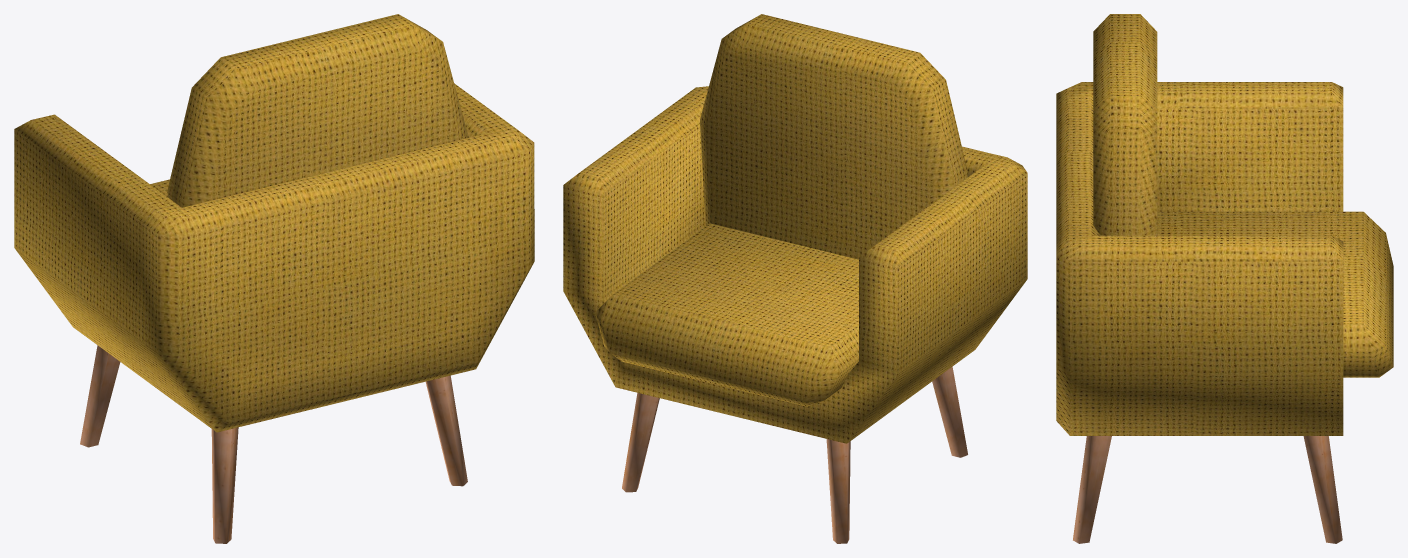
Rendered from Armchair_02.glb.
3 renders of one model, left to right at view 1: azimuth 30°, elevation 25°; view 2: azimuth 150°, elevation 25°; view 3: azimuth 270°, elevation 25°, orthographic. The views are drawn at different scales.
Parts seen in each view (by area): view 1: Armchair_02; view 2: Armchair_02; view 3: Armchair_02.
Part boxes in pixels (x1=…): Armchair_02: x1=14, y1=14, x2=534, y2=543; Armchair_02: x1=563, y1=14, x2=1027, y2=543; Armchair_02: x1=1056, y1=14, x2=1393, y2=543.
Bounding box in the file's own units: 0.9302 × 1.07 × 0.761.
2 materials, 2 textured.
